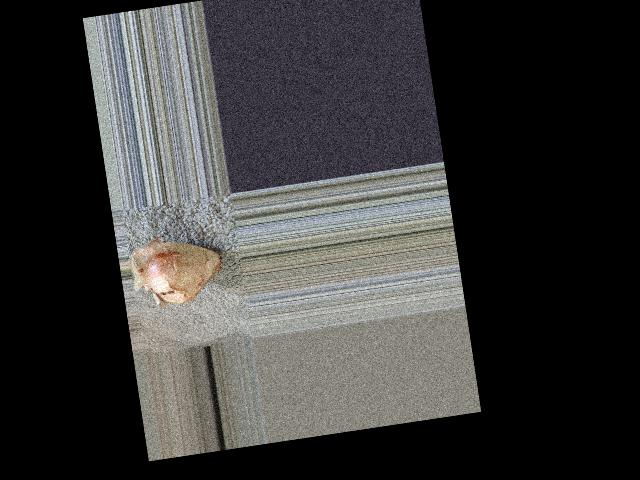onion: (146, 238, 228, 308)
